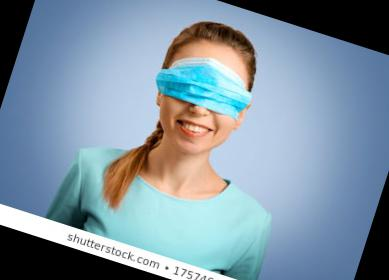mask_weared_incorrect: (148, 43, 262, 164)
